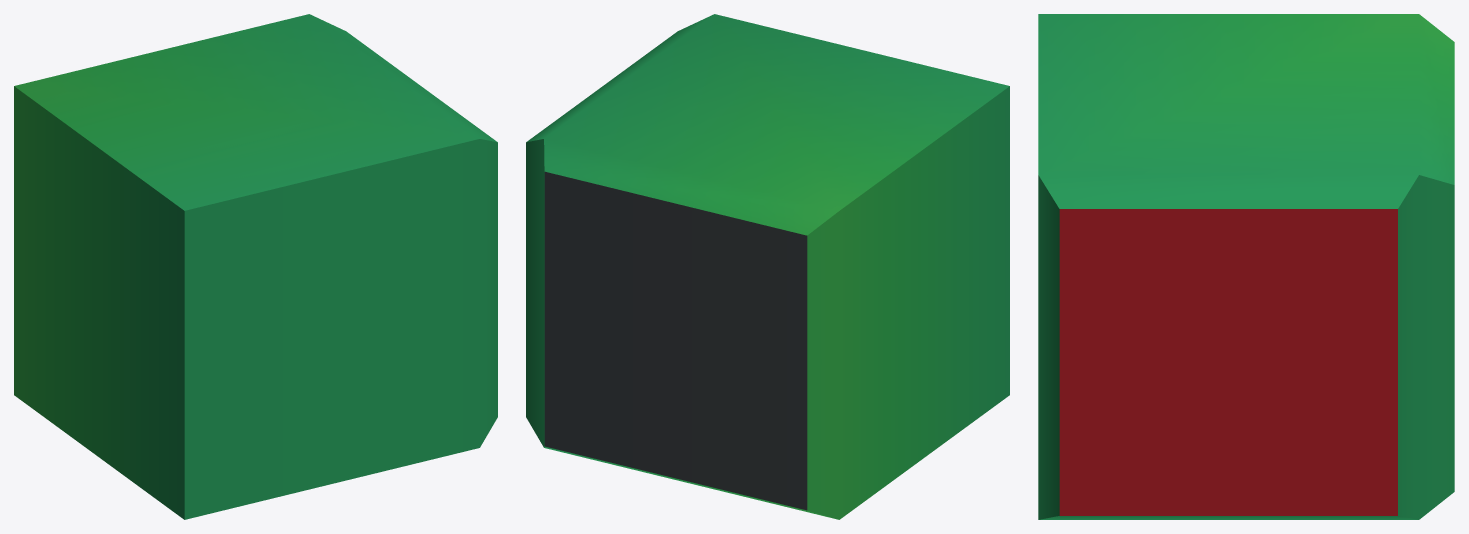
Rendered from puzzlecube_center_puzzlecube_L.glb.
3 views of the same model, side by side, from view 1: azimuth 30°, elevation 25°; view 2: azimuth 150°, elevation 25°; view 3: azimuth 270°, elevation 25° (orthographic). The views are drawn at different scales.
Visible parts, largest first — view 1: puzzlecube_L; view 2: puzzlecube_L; view 3: puzzlecube_L.
Boxes of the visible parts, x1,y1,x2,y2 form: puzzlecube_L: (14,14,497,519); puzzlecube_L: (526,14,1009,519); puzzlecube_L: (1038,14,1454,519).
Size of the model in its own units: 0.1457 by 0.1333 by 0.1457.
Materials: 1 (1 with a texture image).
